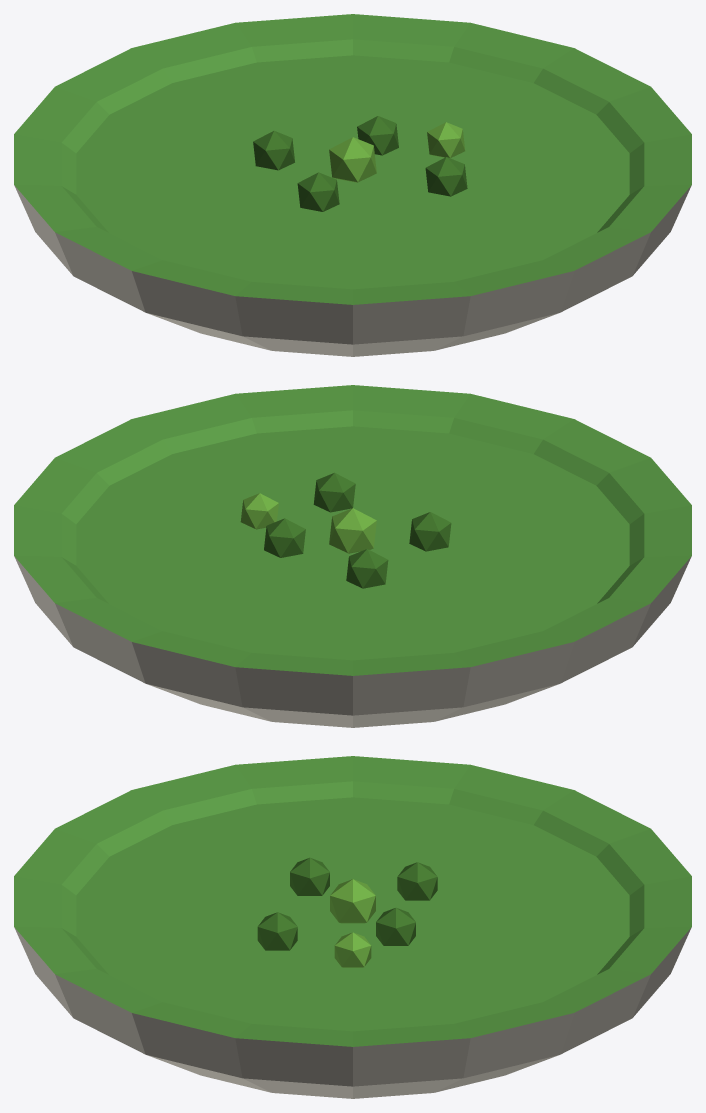
The model's file is Green_Stew.glb.
3 renders of one model, top to bottom at view 1: azimuth 30°, elevation 25°; view 2: azimuth 150°, elevation 25°; view 3: azimuth 270°, elevation 25°, orthographic.
Visible parts, largest first — view 1: _I_GreenStew; view 2: _I_GreenStew; view 3: _I_GreenStew.
Part boxes in pixels (left/top/right/bottom): _I_GreenStew: left=14, top=14, right=691, bottom=356; _I_GreenStew: left=14, top=385, right=691, bottom=727; _I_GreenStew: left=14, top=756, right=691, bottom=1098.
Bounding box in the file's own units: 0.64 × 0.143 × 0.6303.
